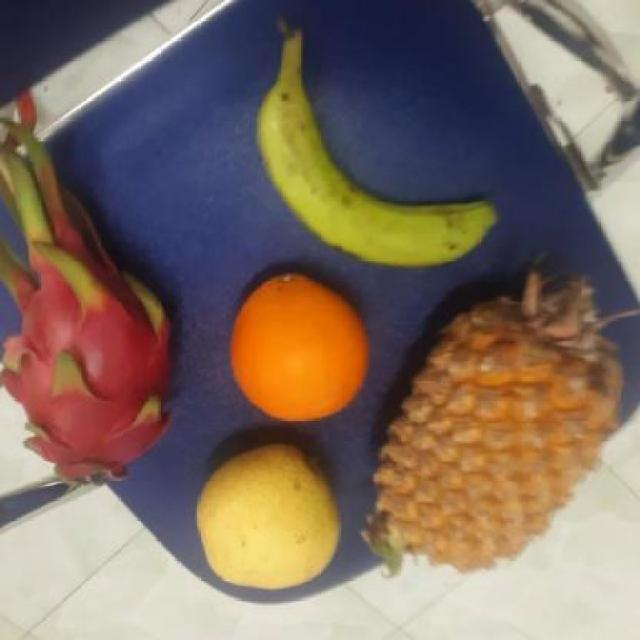banana: (255, 67, 486, 267)
dragon fruit: (0, 247, 172, 478)
oren: (226, 271, 369, 424)
pear: (192, 447, 341, 595)
pineapple: (373, 299, 635, 565)
